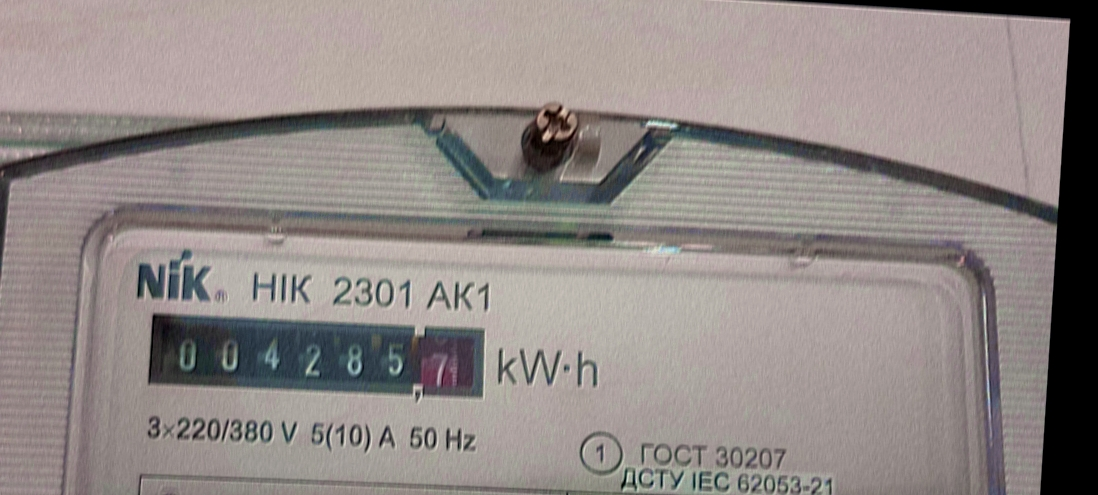0: (217, 334, 241, 372), (174, 334, 198, 370)
2: (300, 339, 322, 376)
4: (261, 333, 280, 369)
5: (382, 338, 405, 375)
7: (426, 349, 448, 386)
8: (341, 339, 364, 377)
screen: (130, 295, 501, 417)
